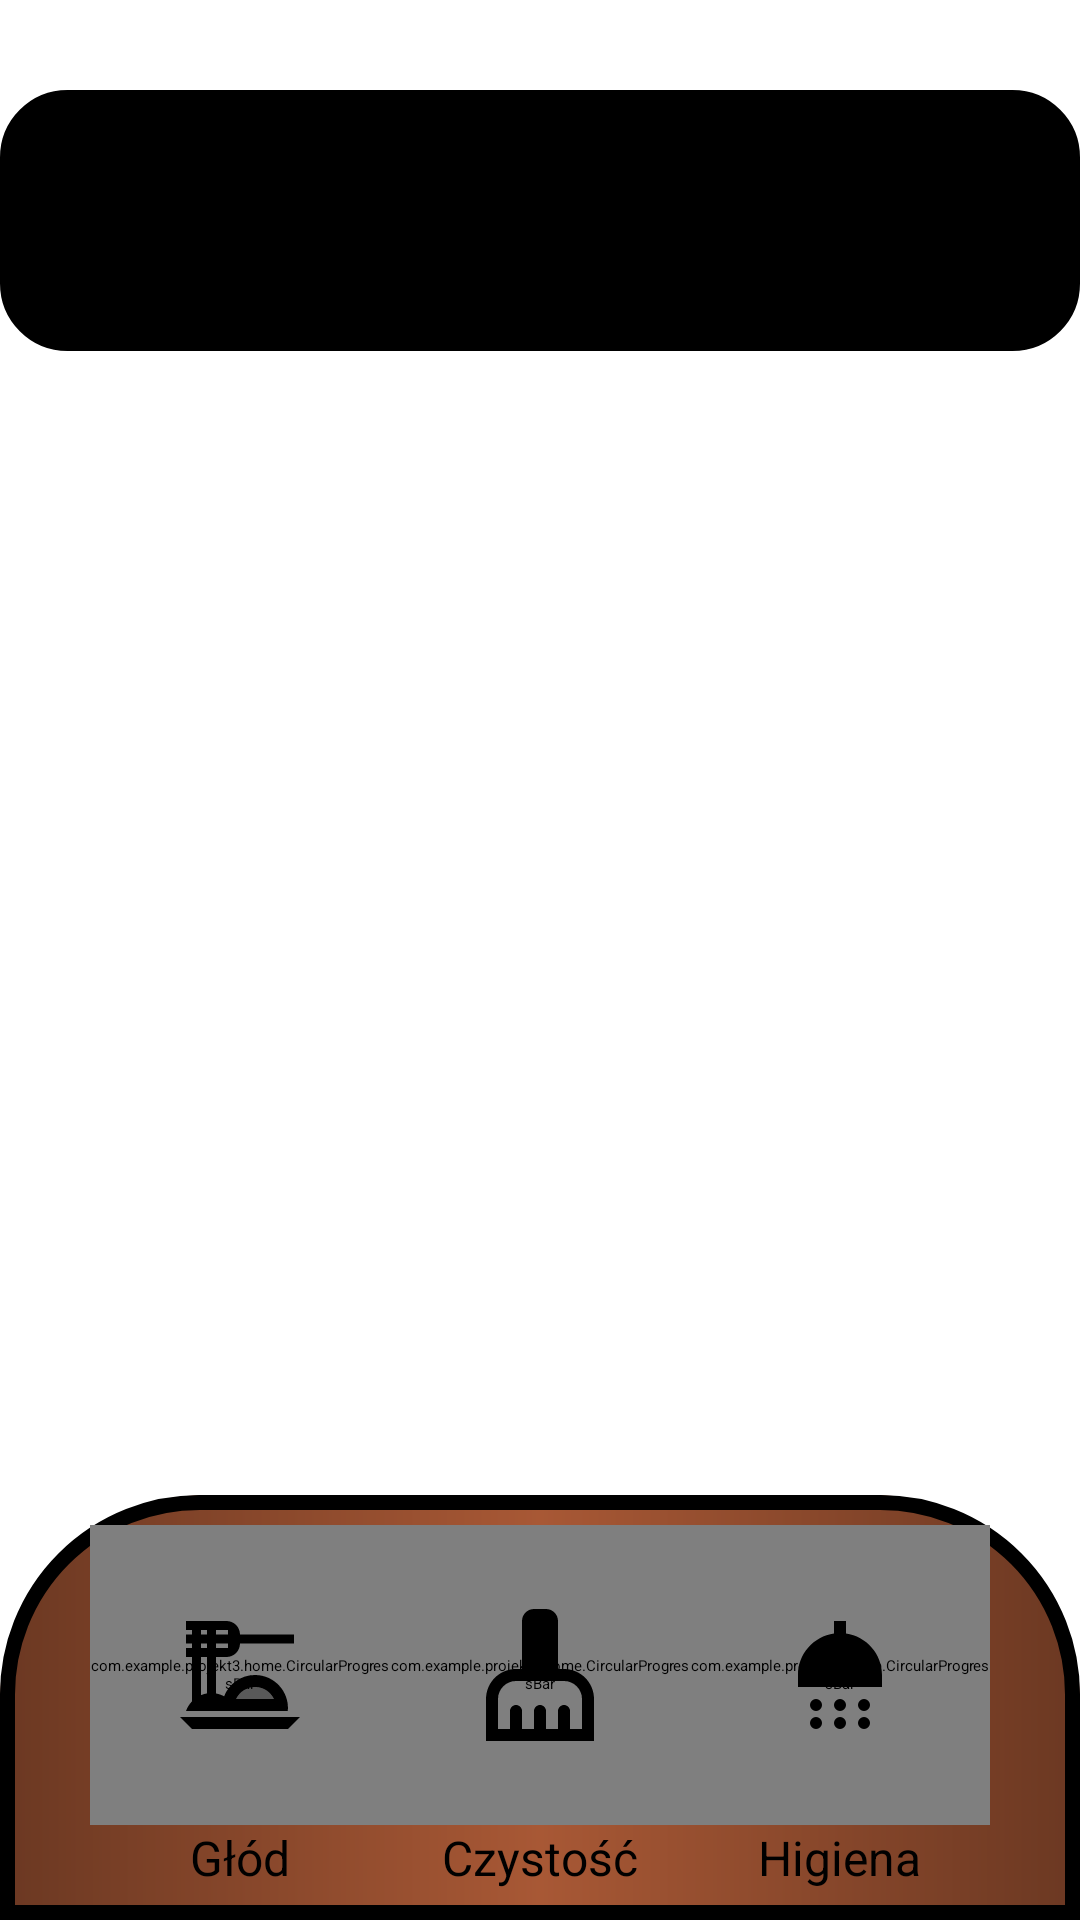

Point at icon controls on the screen. Image size 1080w x 1920h, points as (x,y).
cleaning services: (541,1675)
dinner dining: (241,1675)
shower: (841,1675)
